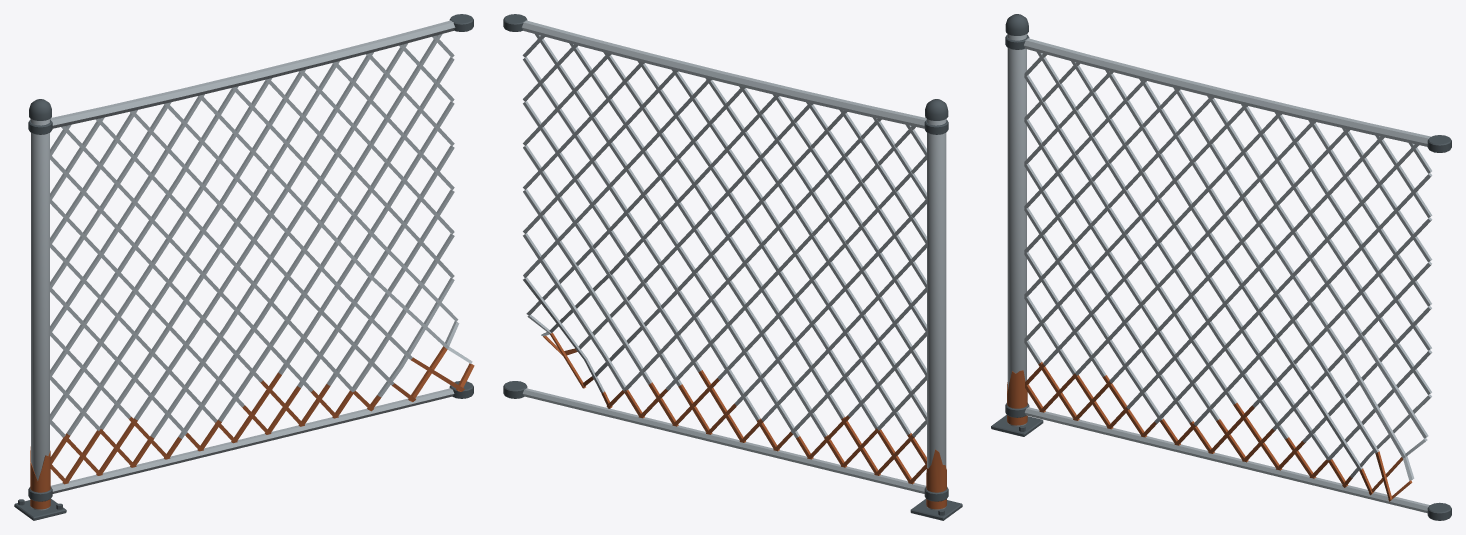
Rendered from fence_panel.glb.
3 renders of one model, left to right at view 1: azimuth 30°, elevation 25°; view 2: azimuth 150°, elevation 25°; view 3: azimuth 330°, elevation 25°, orthographic.
Visible parts, largest first — view 1: Fence; view 2: Fence; view 3: Fence.
Boxes of the visible parts, box(x1,y1,x2,y2) form: Fence: box(14, 14, 474, 520); Fence: box(503, 14, 962, 520); Fence: box(991, 14, 1451, 520).
Size of the model in its own units: 2.66 by 2.33 by 0.3693.
